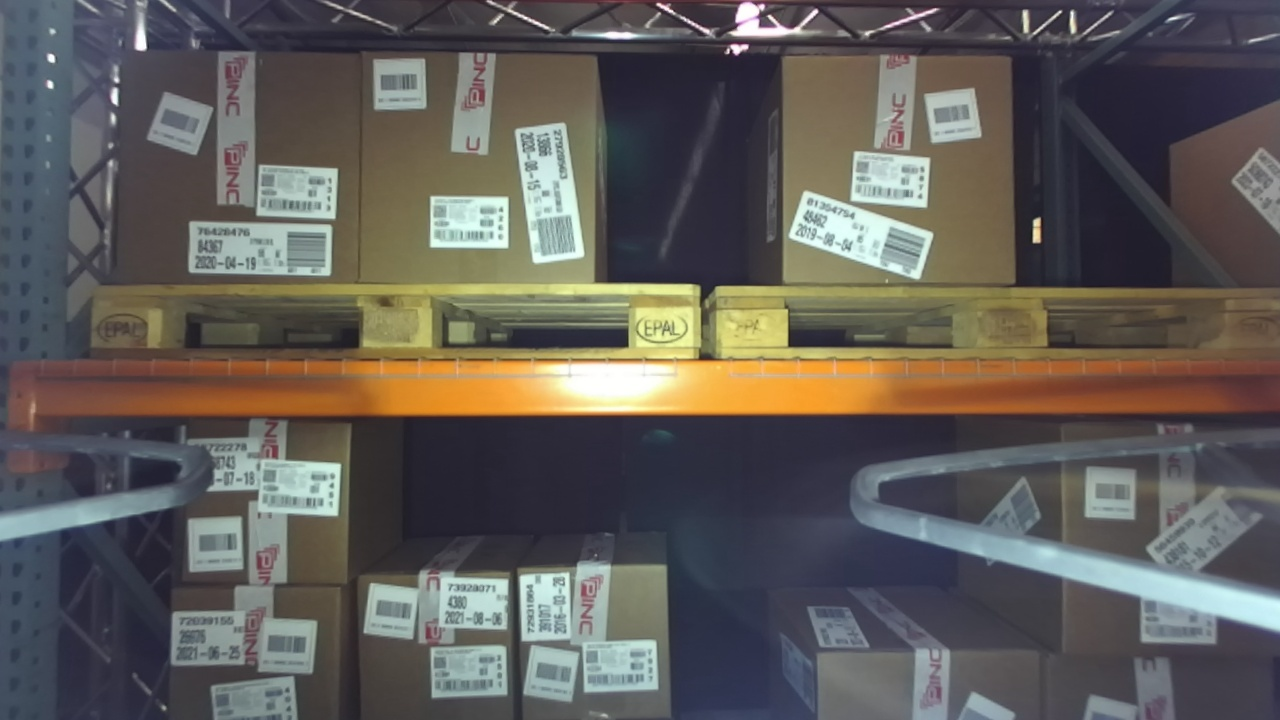box: (96, 26, 377, 303), (341, 35, 615, 307), (763, 32, 1030, 306), (1039, 414, 1280, 670), (166, 401, 371, 601), (156, 570, 377, 719), (335, 559, 536, 720), (496, 557, 692, 720)
